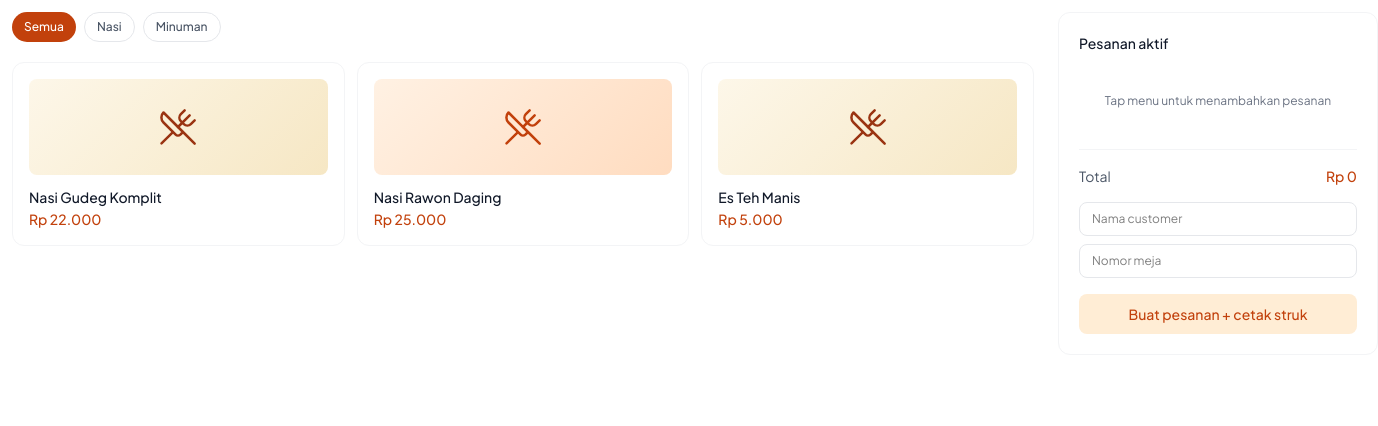
Test: S1 — struk memuat SEMUA item order › 3 item di order → 3 baris item di struk (bukan cuma 1)
What coordinates should you click on to do the following:
click the button "Nasi Gudeg Komplit Rp 22.000"
I would click on:
 (178, 154)
Its box is x1=12 y1=62 x2=345 y2=246.
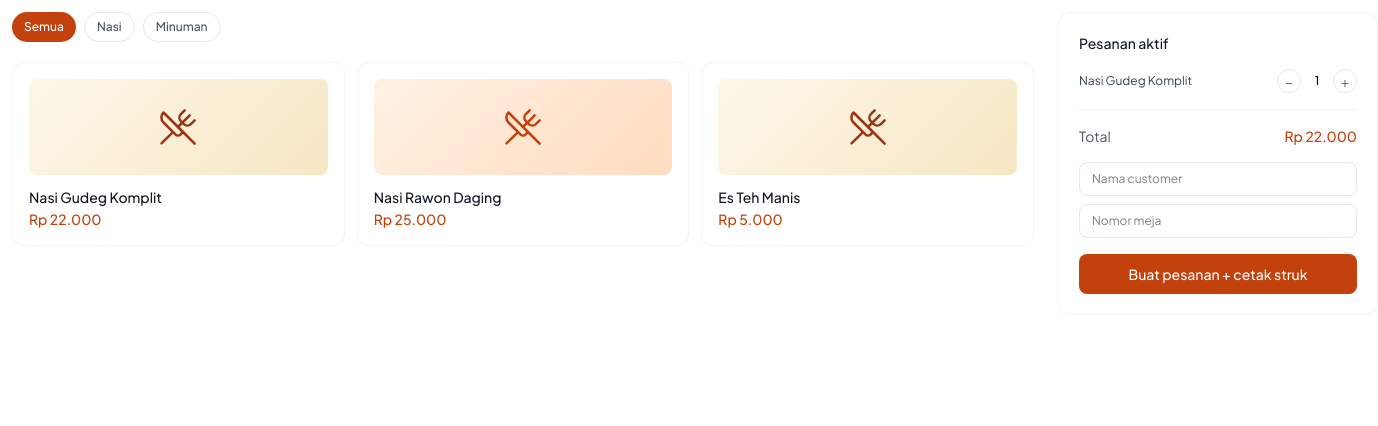
What coordinates should you click on to do the following:
click the button "Nasi Rawon Daging Rp 25.000"
I would click on:
 (523, 154)
Its box is x1=357 y1=62 x2=689 y2=246.
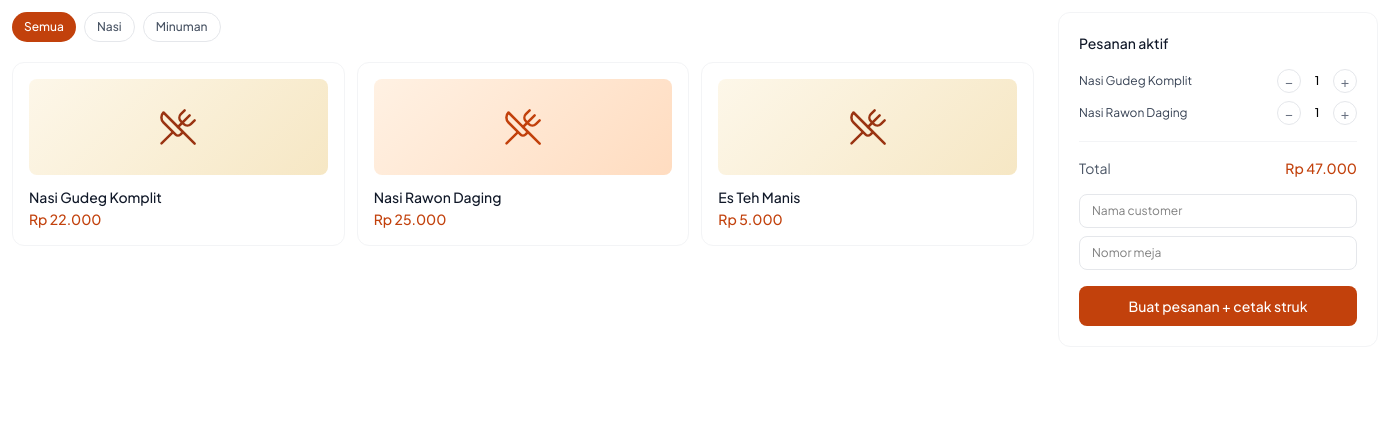
What coordinates should you click on to do the following:
click the button "Es Teh Manis Rp 5.000"
I would click on:
 (868, 154)
Its box is x1=701 y1=62 x2=1034 y2=246.
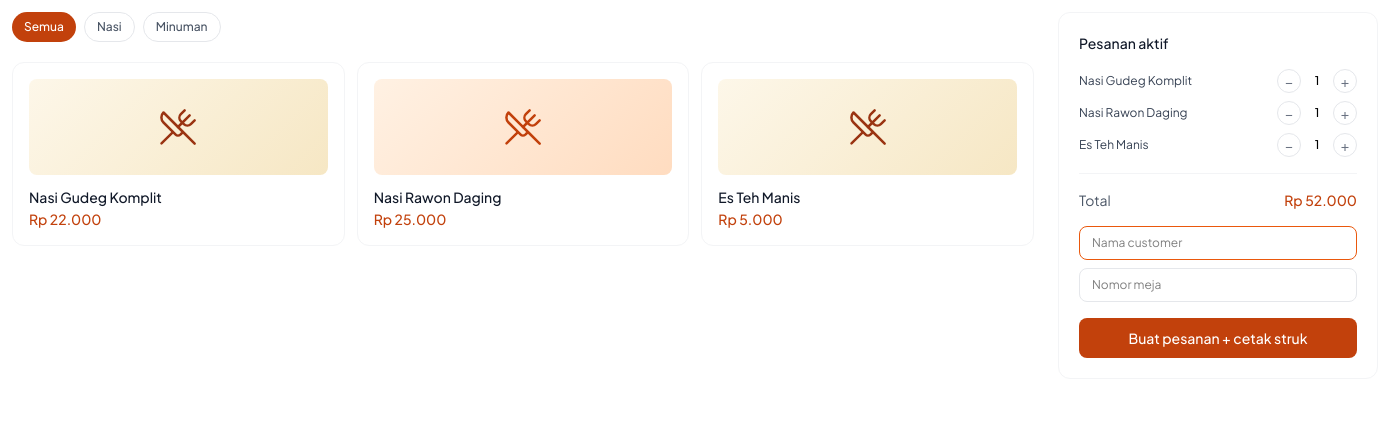
What coordinates should you click on to do the following:
click the button "Buat pesanan + cetak struk"
I would click on:
 (1218, 338)
Its box is x1=1079 y1=318 x2=1357 y2=358.
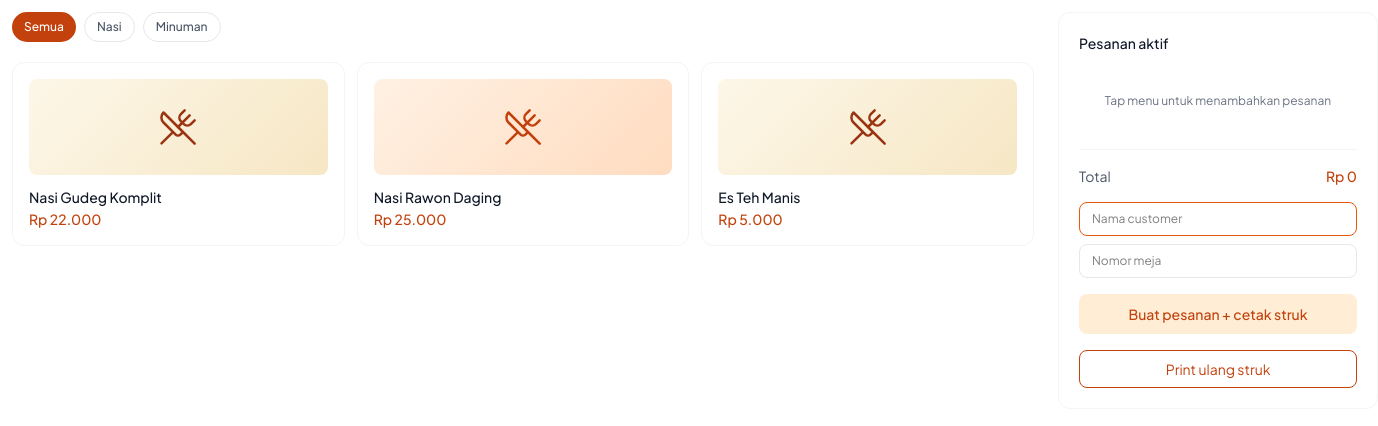
Check: the button "Print ulang struk" is shown, box x1=1079 y1=350 x2=1357 y2=388
